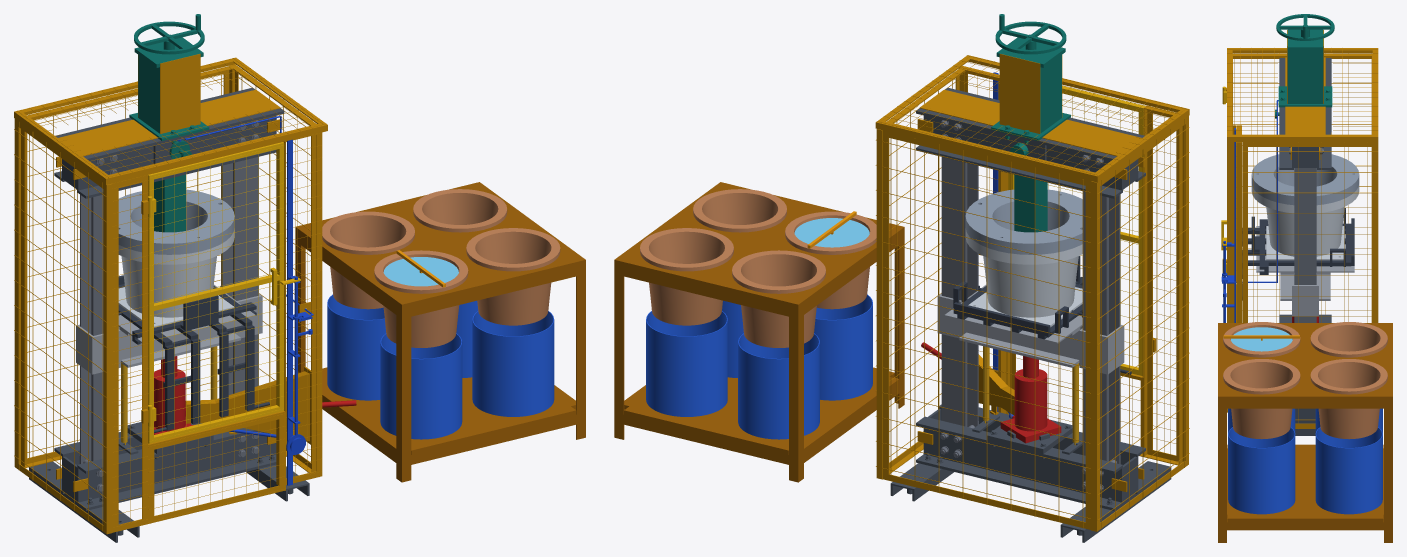
3 views of the same model, side by side, from view 1: azimuth 30°, elevation 25°; view 2: azimuth 150°, elevation 25°; view 3: azimuth 270°, elevation 25° (orthographic). The views are drawn at different scales.
Parts seen in each view (by area): view 1: Fixed mesh guards and pump slot shield, QC flow-test rack (2 x 2), Collection buckets, Test pots in the QC rack, Front gate, mesh in a tube frame, with hinges and tongue, Uprights with bolted joints, Base beam, feet and jack plate, Rails, folding extension and carriage, Male mold slide, load pin, crank, Top crossbeam with pin doublers, Female mold (cast aluminum on a steel base plate), Male mold (cast aluminum) (+5 smaller); view 2: Fixed mesh guards and pump slot shield, QC flow-test rack (2 x 2), Collection buckets, Test pots in the QC rack, Uprights with bolted joints, Base beam, feet and jack plate, Female mold (cast aluminum on a steel base plate), Male mold slide, load pin, crank, Top crossbeam with pin doublers, Moving platen with guide sleeves, Male mold (cast aluminum), Front gate, mesh in a tube frame, with hinges and tongue (+4 smaller); view 3: Fixed mesh guards and pump slot shield, QC flow-test rack (2 x 2), Test pots in the QC rack, Collection buckets, Male mold slide, load pin, crank, Female mold (cast aluminum on a steel base plate), Male mold (cast aluminum), Uprights with bolted joints, Moving platen with guide sleeves, Top crossbeam with pin doublers, Rails, folding extension and carriage, Gate and pin interlock, release shaft (+4 smaller).
Boxes of the visible parts, x1,y1,x2,y2 form: Fixed mesh guards and pump slot shield: [14, 47, 327, 534]; QC flow-test rack (2 x 2): [295, 182, 585, 482]; Collection buckets: [327, 294, 554, 439]; Test pots in the QC rack: [322, 189, 560, 347]; Front gate, mesh in a tube frame, with hinges and tongue: [148, 142, 300, 443]; Uprights with bolted joints: [79, 120, 259, 491]; Base beam, feet and jack plate: [29, 422, 309, 542]; Rails, folding extension and carriage: [118, 275, 269, 433]; Male mold slide, load pin, crank: [129, 14, 209, 232]; Top crossbeam with pin doublers: [54, 87, 284, 198]; Female mold (cast aluminum on a steel base plate): [118, 228, 234, 327]; Male mold (cast aluminum): [118, 189, 234, 254]; Fixed mesh guards and pump slot shield: [875, 54, 1189, 531]; QC flow-test rack (2 x 2): [614, 182, 904, 482]; Collection buckets: [646, 294, 872, 439]; Test pots in the QC rack: [640, 189, 876, 347]; Uprights with bolted joints: [940, 120, 1120, 491]; Base beam, feet and jack plate: [890, 404, 1171, 542]; Female mold (cast aluminum on a steel base plate): [965, 228, 1082, 327]; Male mold slide, load pin, crank: [991, 14, 1070, 232]; Top crossbeam with pin doublers: [916, 87, 1145, 198]; Moving platen with guide sleeves: [937, 285, 1124, 374]; Male mold (cast aluminum): [965, 189, 1082, 254]; Front gate, mesh in a tube frame, with hinges and tongue: [1008, 86, 1145, 375]; Fixed mesh guards and pump slot shield: [1226, 30, 1378, 428]; QC flow-test rack (2 x 2): [1218, 323, 1392, 542]; Test pots in the QC rack: [1223, 322, 1387, 439]; Collection buckets: [1228, 408, 1382, 514]; Male mold slide, load pin, crank: [1275, 14, 1334, 118]; Female mold (cast aluminum on a steel base plate): [1251, 184, 1359, 260]; Male mold (cast aluminum): [1251, 154, 1359, 205]; Uprights with bolted joints: [1289, 147, 1323, 322]; Moving platen with guide sleeves: [1256, 226, 1354, 316]; Top crossbeam with pin doublers: [1279, 58, 1331, 169]; Rails, folding extension and carriage: [1242, 208, 1354, 300]; Gate and pin interlock, release shaft: [1221, 100, 1278, 322].
Bounding box in the file's own units: 2.01 × 1.88 × 0.78.
